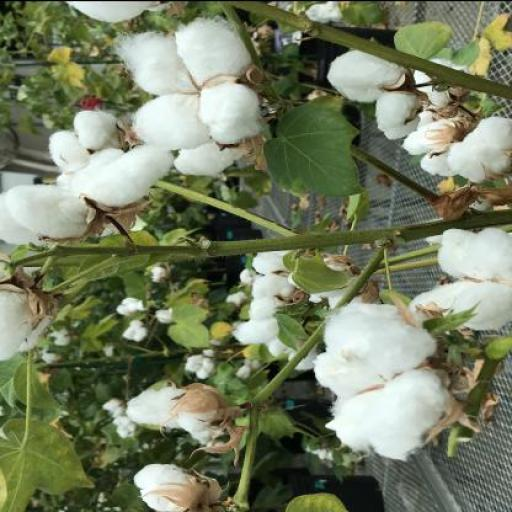cotton_ready: (303, 296, 460, 463), (426, 115, 512, 354), (29, 114, 167, 250), (314, 27, 442, 170), (118, 370, 245, 511), (129, 30, 277, 146), (216, 242, 358, 360)
